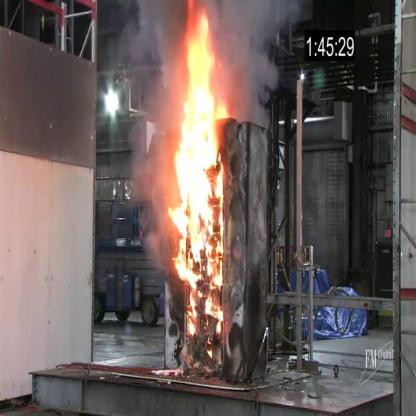fire: (165, 9, 233, 354)
